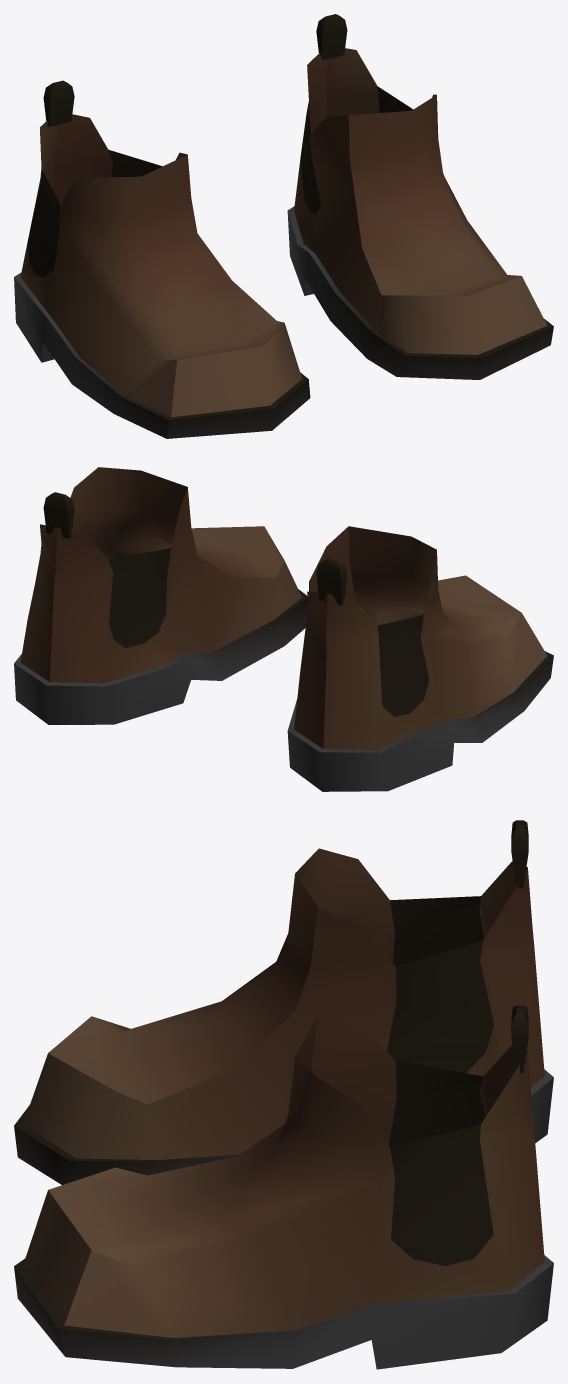
The model's file is ShoesB_ChelseaBoots.glb.
The picture shows the model from 3 angles, top to bottom: view 1: azimuth 30°, elevation 25°; view 2: azimuth 150°, elevation 25°; view 3: azimuth 270°, elevation 25°; orthographic projection. The views are drawn at different scales.
Parts seen in each view (by area): view 1: ShoesB_ChelseaBoots_R, ShoesB_ChelseaBoots_L; view 2: ShoesB_ChelseaBoots_L, ShoesB_ChelseaBoots_R; view 3: ShoesB_ChelseaBoots_L, ShoesB_ChelseaBoots_R.
Boxes of the visible parts, left/top/right/bottom form: ShoesB_ChelseaBoots_R: left=14, top=80, right=310, bottom=438; ShoesB_ChelseaBoots_L: left=287, top=14, right=553, bottom=379; ShoesB_ChelseaBoots_L: left=14, top=467, right=308, bottom=724; ShoesB_ChelseaBoots_R: left=287, top=526, right=553, bottom=791; ShoesB_ChelseaBoots_L: left=14, top=1005, right=553, bottom=1369; ShoesB_ChelseaBoots_R: left=14, top=820, right=553, bottom=1184.
Bounding box in the file's own units: 0.9549 × 0.5015 × 0.7812.
